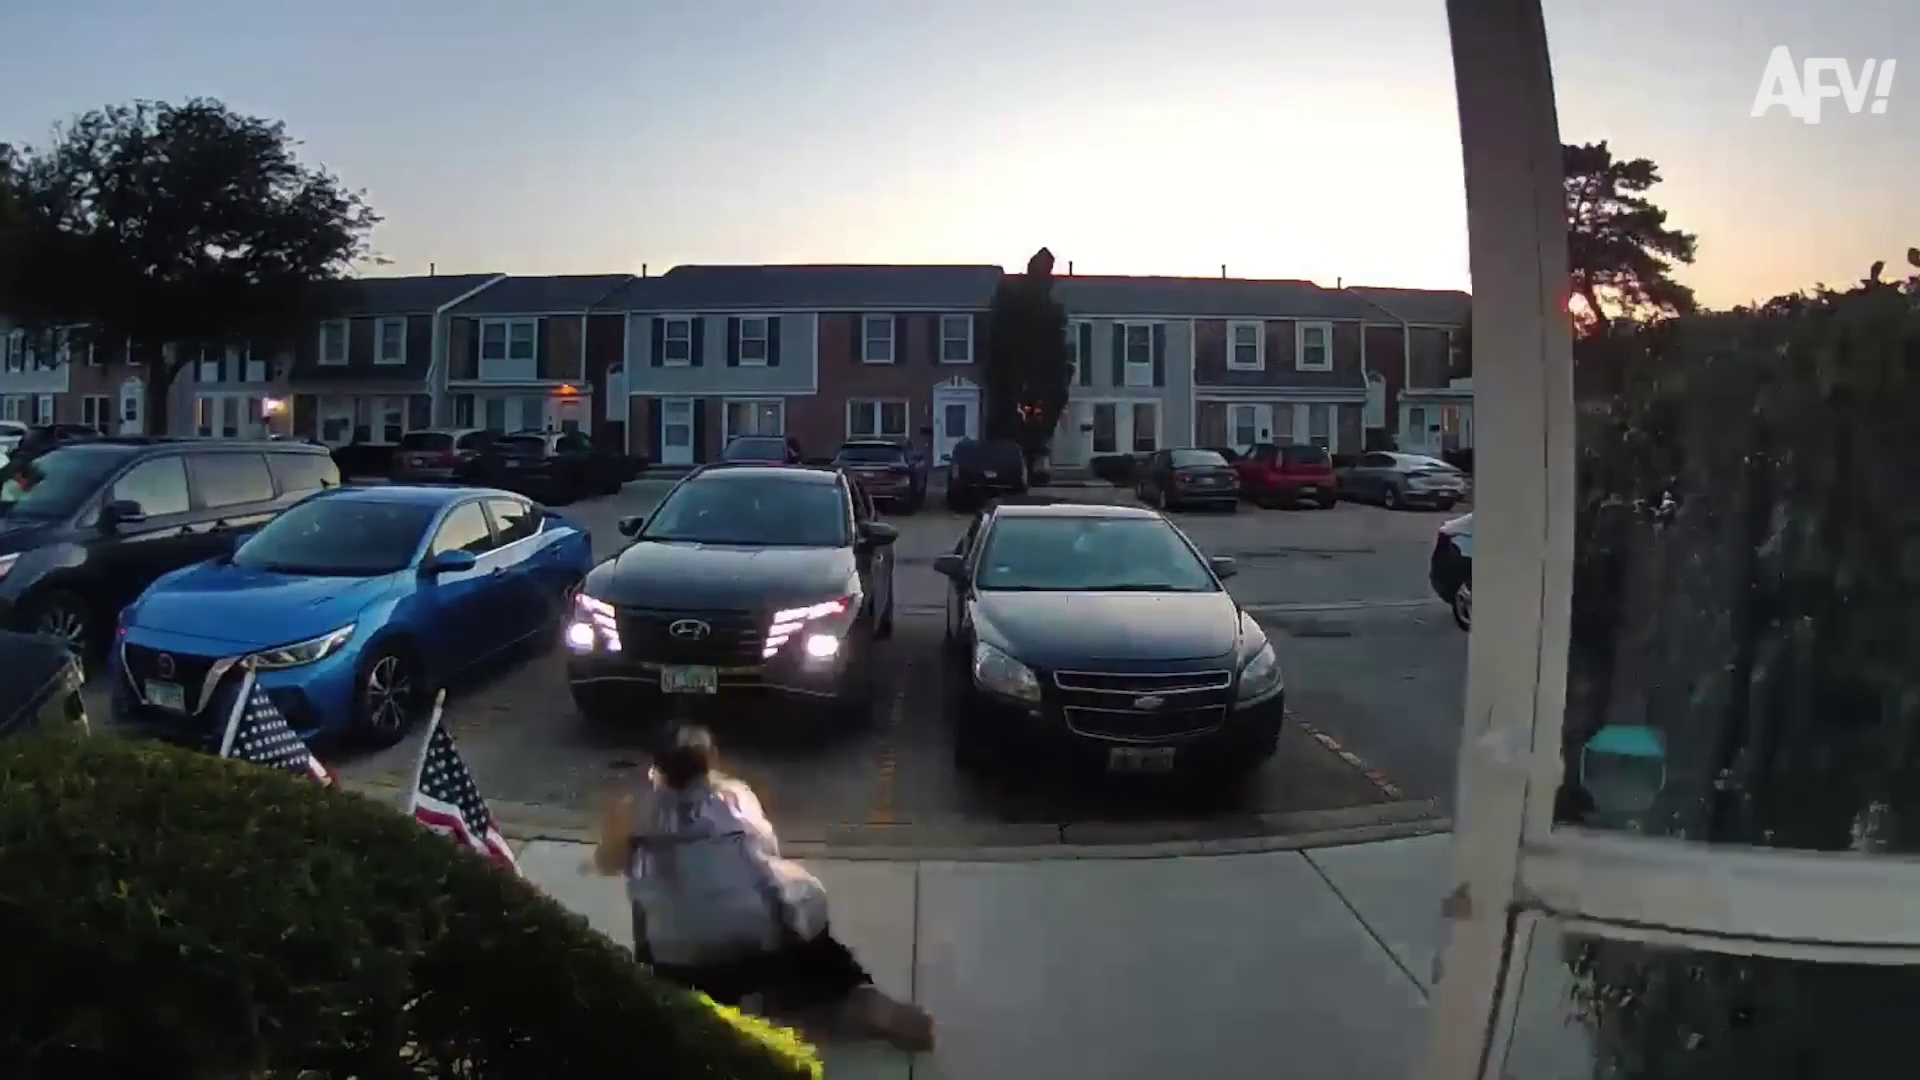fall: (591, 707, 1038, 1080)
